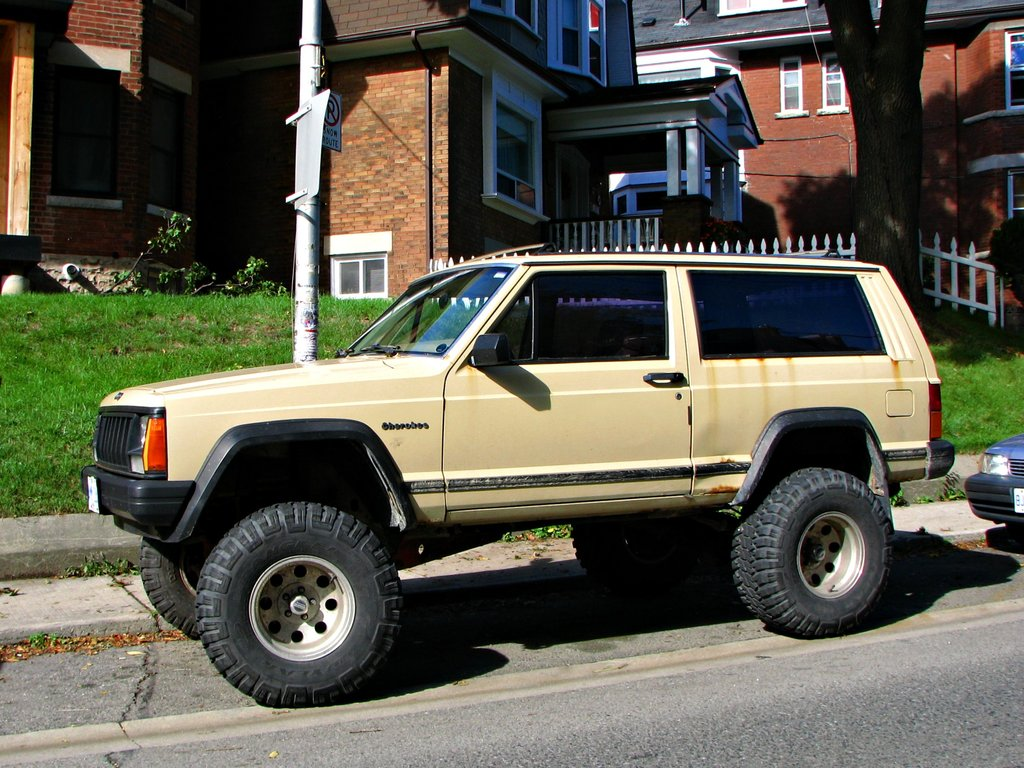Tree: (824, 0, 941, 331)
